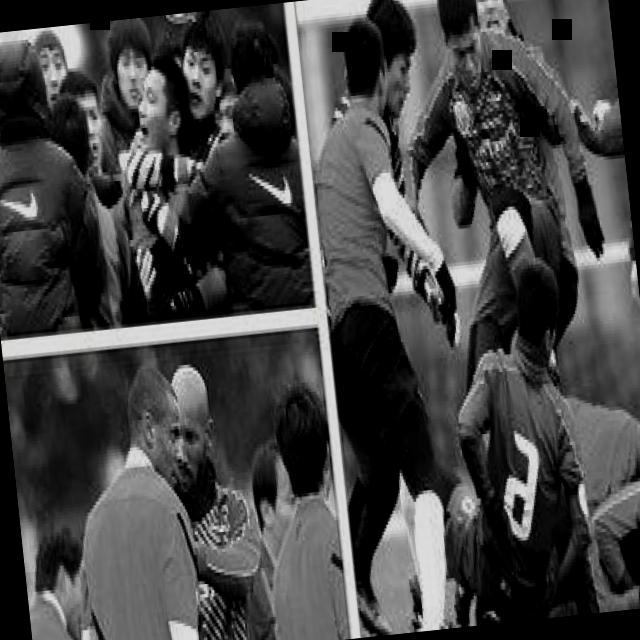Fall-Detected: (408, 242, 620, 626)
